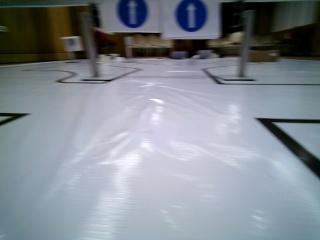straight: (164, 0, 218, 38), (100, 0, 162, 33)
